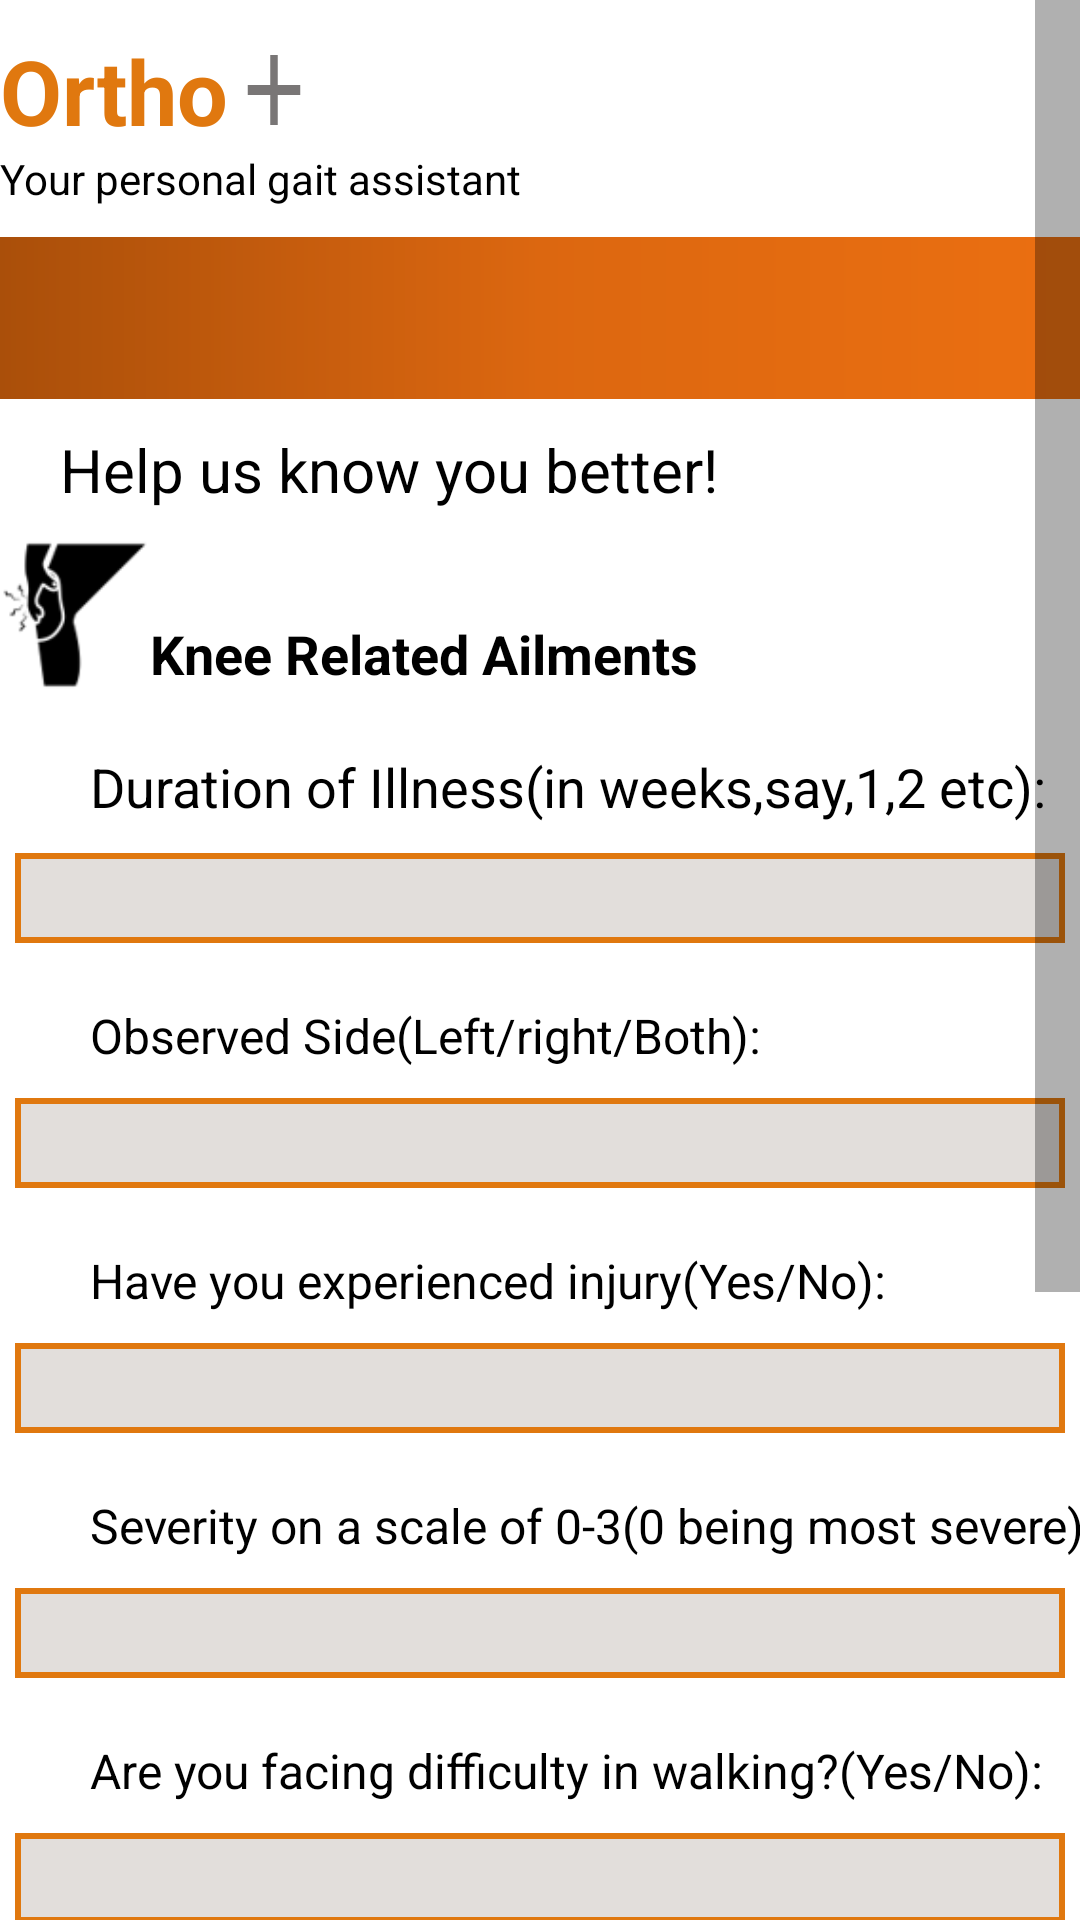

Locate icon controls on the screen. Image size 1080 × 1920, boxes as (x1, y1, x2, y2).
add: (247, 55, 301, 125)
